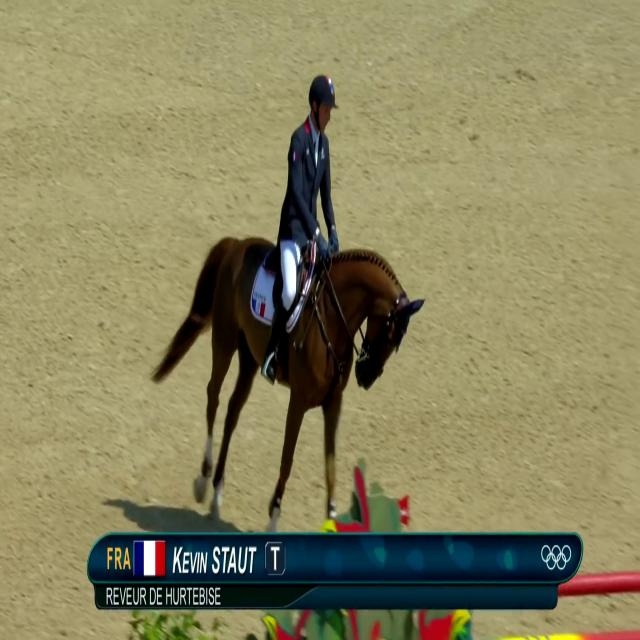Horse Rider: (272, 26, 347, 324)
Horse Running: (142, 194, 428, 550)
